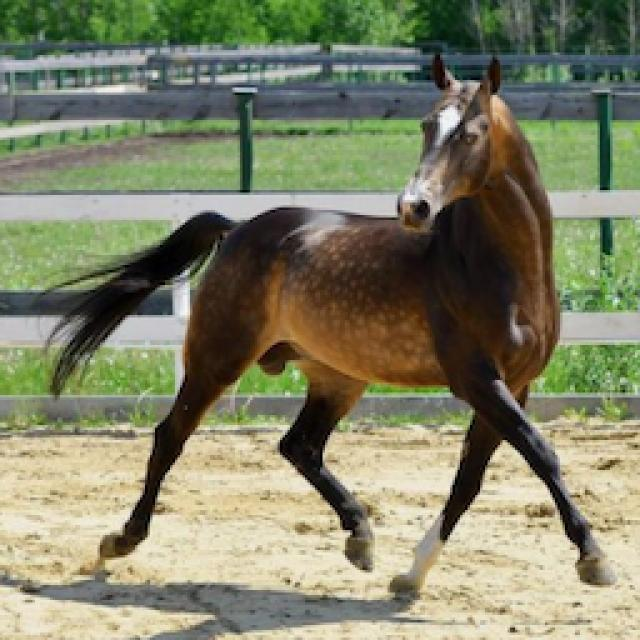Horse: (32, 50, 626, 602)
